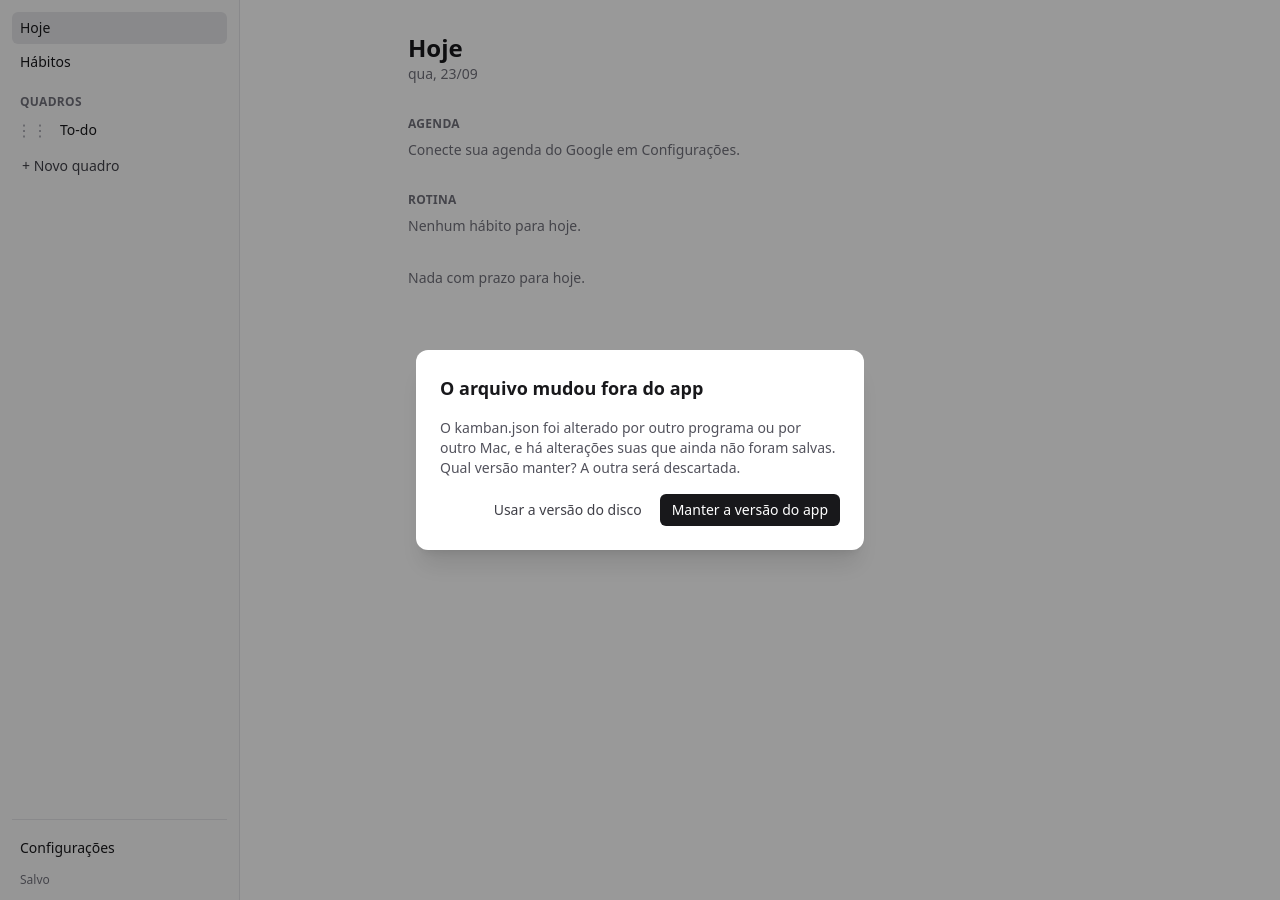
Test: Shell › pergunta qual versão manter quando há conflito
The image size is (1280, 900).
Expected: the dialog "O arquivo mudou fora do app" is shown, [416,350,864,550]
Click the button "Usar a versão do disco".
click(568, 510)  # box [484,494,652,526]
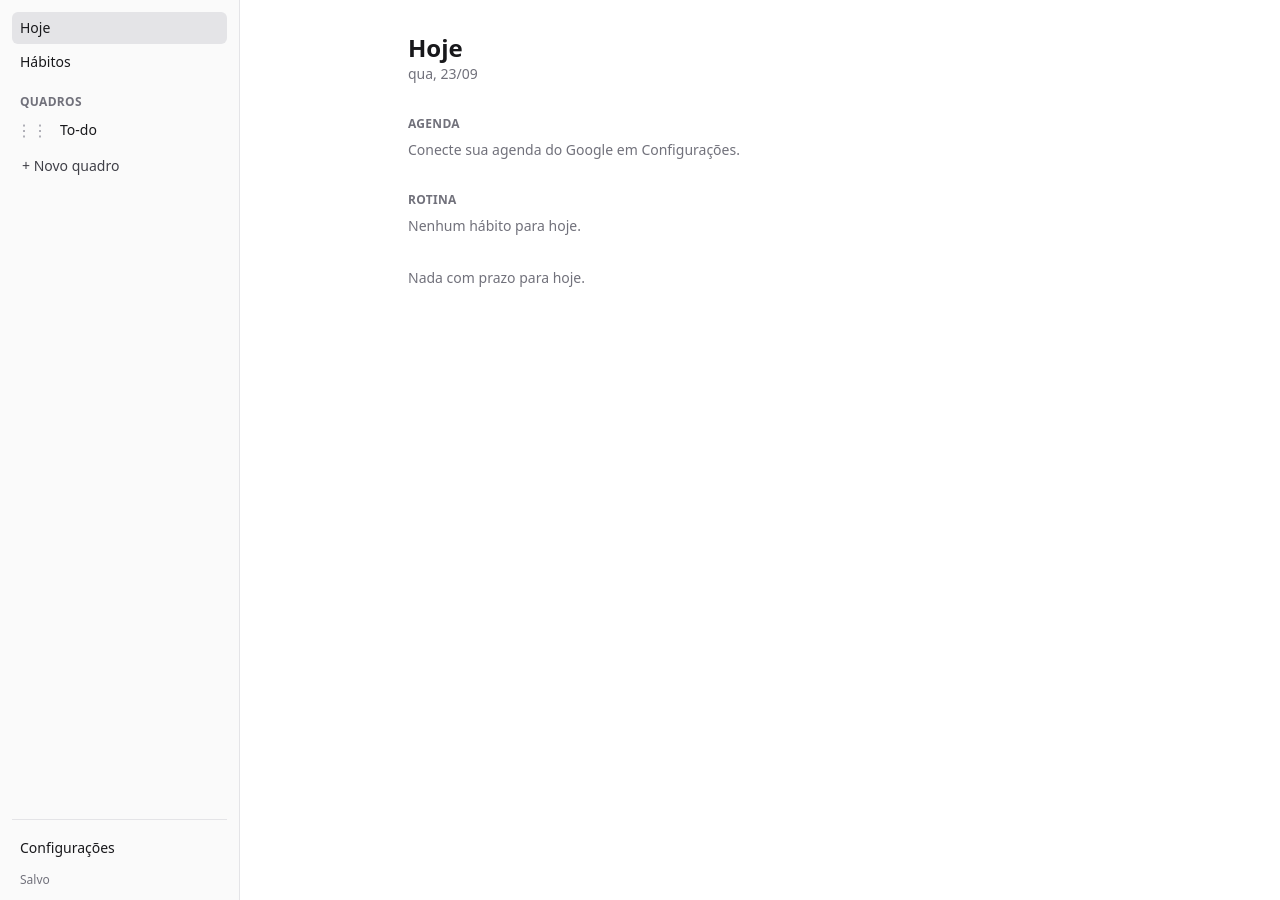
Now the dialog is gone
